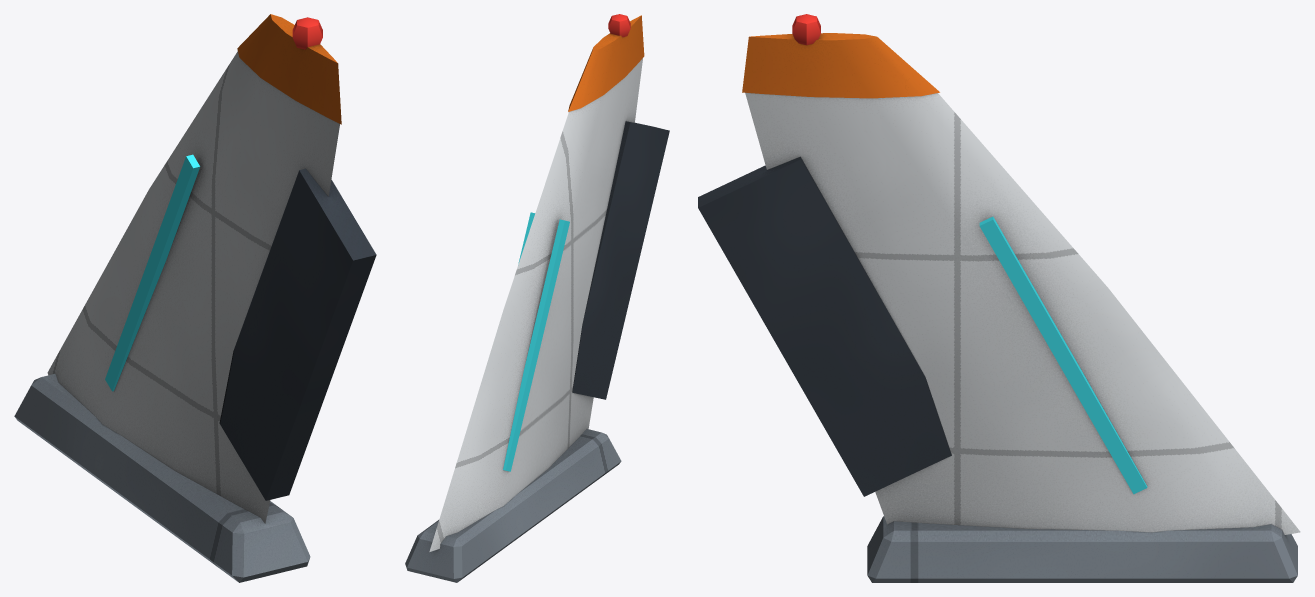
Rendered from estabilizador.fbx.
3 views of the same model, side by side, from view 1: azimuth 30°, elevation 25°; view 2: azimuth 150°, elevation 25°; view 3: azimuth 270°, elevation 25° (orthographic). The views are drawn at different scales.
Parts seen in each view (by area): view 1: estabilizador, estabilizador_neon, estabilizador_neon_rojo; view 2: estabilizador, estabilizador_neon, estabilizador_neon_rojo; view 3: estabilizador, estabilizador_neon.
Boxes of the visible parts, bbox=[...] form: estabilizador: bbox=[14, 14, 376, 582]; estabilizador_neon: bbox=[105, 154, 200, 391]; estabilizador_neon_rojo: bbox=[292, 17, 322, 49]; estabilizador: bbox=[405, 15, 669, 582]; estabilizador_neon: bbox=[503, 212, 569, 471]; estabilizador_neon_rojo: bbox=[608, 14, 630, 37]; estabilizador: bbox=[698, 33, 1300, 582]; estabilizador_neon: bbox=[979, 216, 1147, 494].
Bounding box in the file's own units: 0.6695 × 4.75 × 4.7.
Materials: 2 (2 with a texture image).
